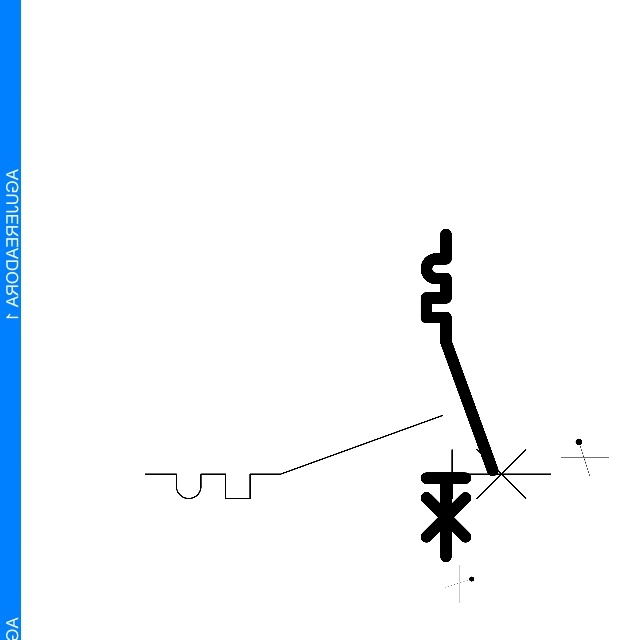interruptor_termomagnetico: (135, 405, 561, 509), (418, 226, 501, 565)
